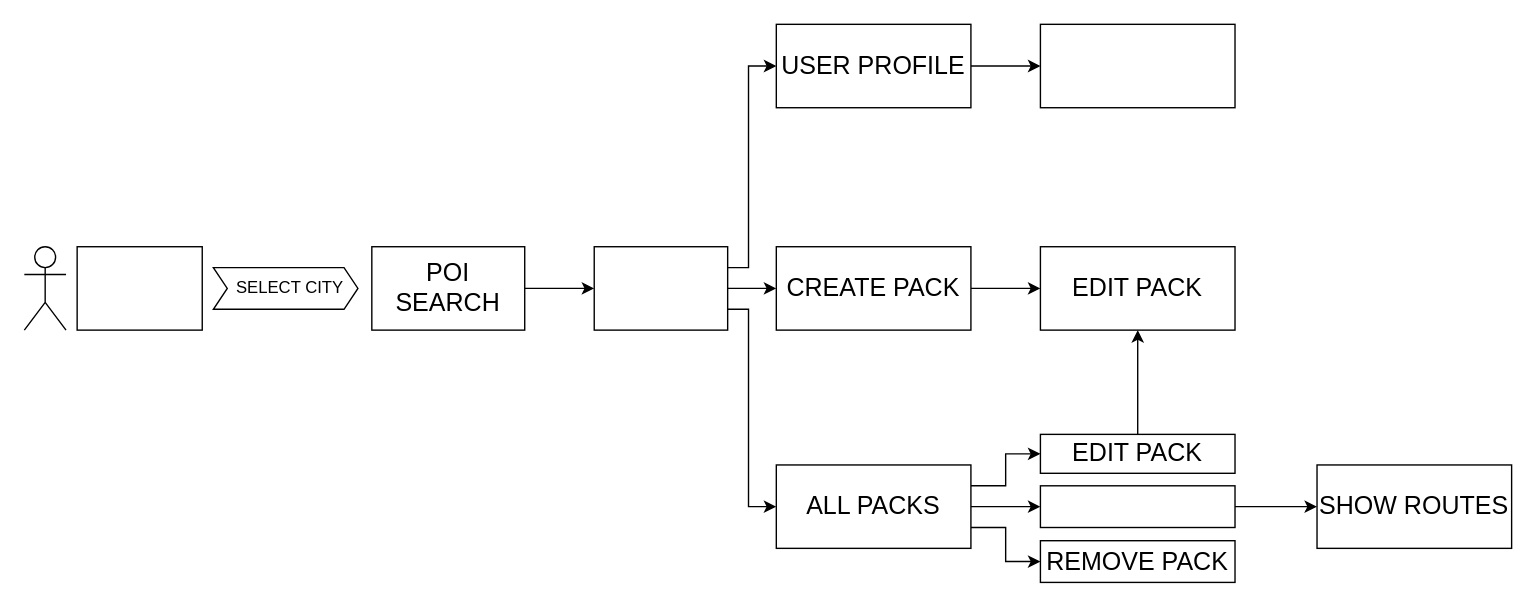
The diagram is 1536 pixels wide and 607 high, and some of its shapes have lost their labels. The centre of each missing label's shape, as x and y in pixels:
"EDIT USER INFO" goes at (x=1137, y=65).
"HOME" goes at (x=139, y=287).
"LOGIN" goes at (x=660, y=287).
"VIEW PACK" goes at (x=1137, y=506).
